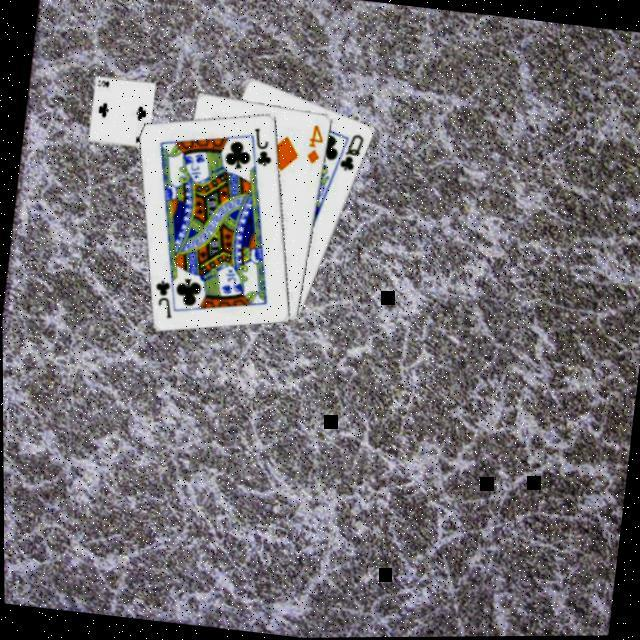4D: (301, 120, 326, 166)
JC: (245, 122, 276, 169), (146, 274, 176, 320)
QC: (334, 128, 365, 174)
